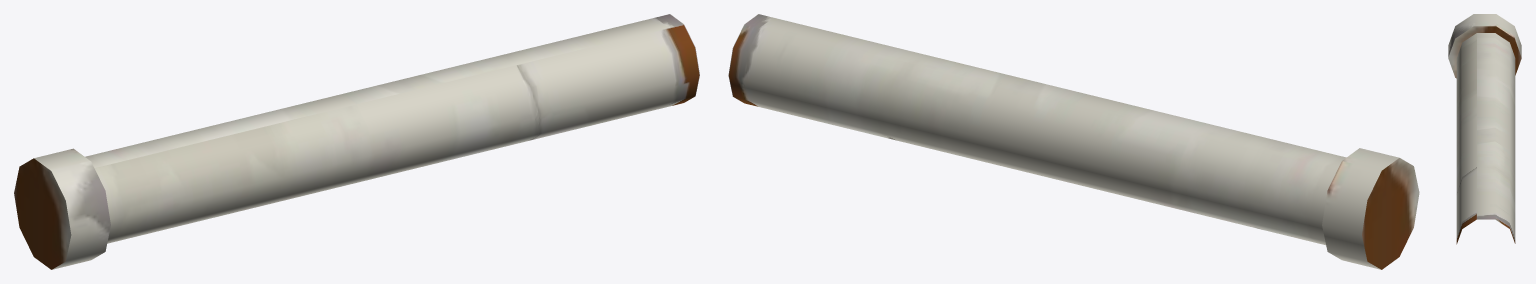
3 renders of one model, left to right at view 1: azimuth 30°, elevation 25°; view 2: azimuth 150°, elevation 25°; view 3: azimuth 270°, elevation 25°, orthographic. The views are drawn at different scales.
Visible parts, largest first — view 1: body0_model0_lod0_mesh0; view 2: body0_model0_lod0_mesh0; view 3: body0_model0_lod0_mesh0.
Part boxes in pixels (x1,y1,x2,y2): body0_model0_lod0_mesh0: (14, 14, 699, 269); body0_model0_lod0_mesh0: (728, 14, 1419, 269); body0_model0_lod0_mesh0: (1448, 14, 1521, 244).
Bounding box in the file's own units: 64 × 9.51 × 10.
Materials: 1 (1 with a texture image).
